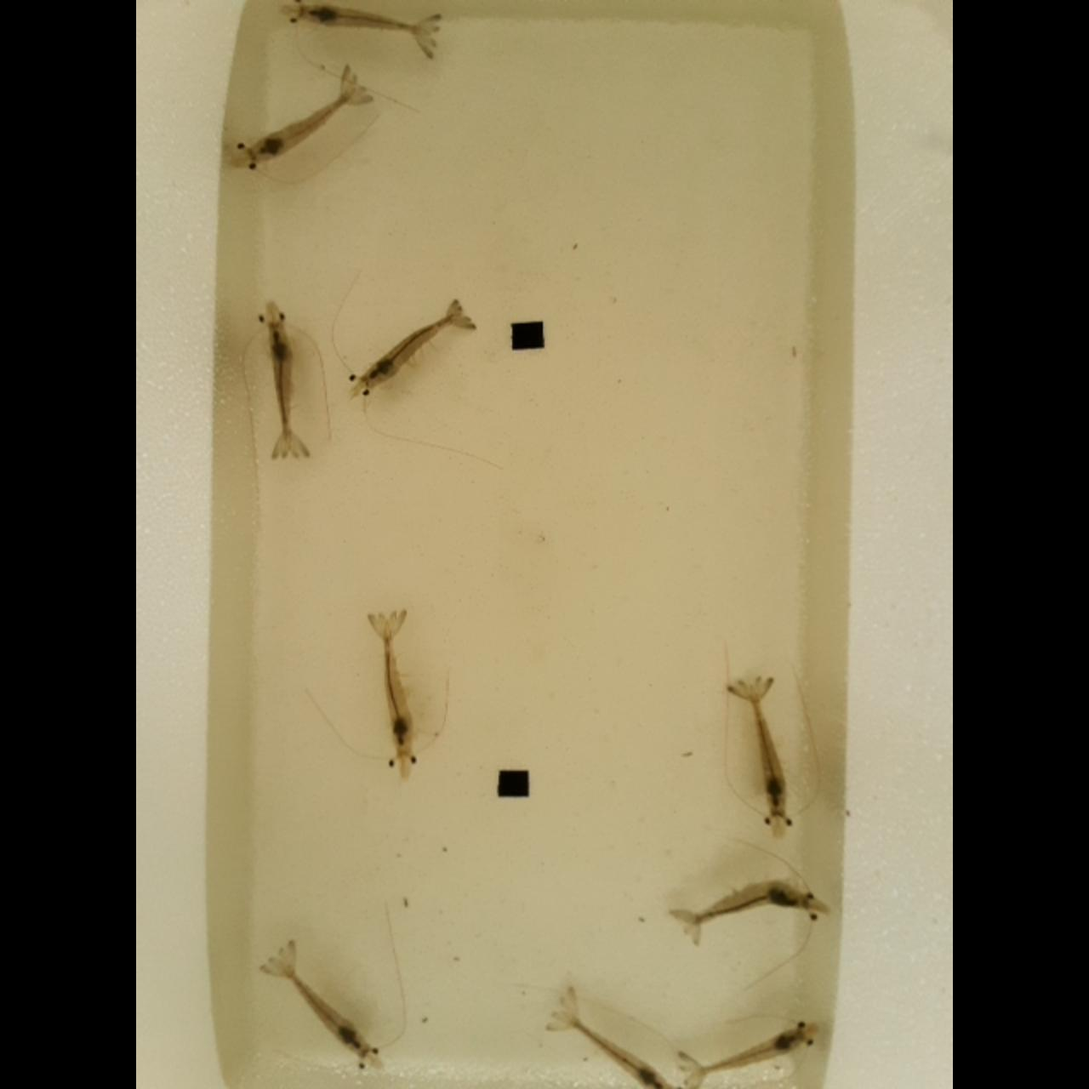box: (512, 322, 543, 349), (499, 769, 529, 795)
side_shrimp: (677, 883, 803, 922)
top_shrimp: (279, 961, 366, 1053), (250, 88, 352, 160), (567, 1014, 667, 1087), (364, 313, 456, 385), (750, 689, 786, 815), (696, 1031, 796, 1074), (381, 628, 412, 747), (306, 5, 427, 32), (269, 327, 291, 449)
